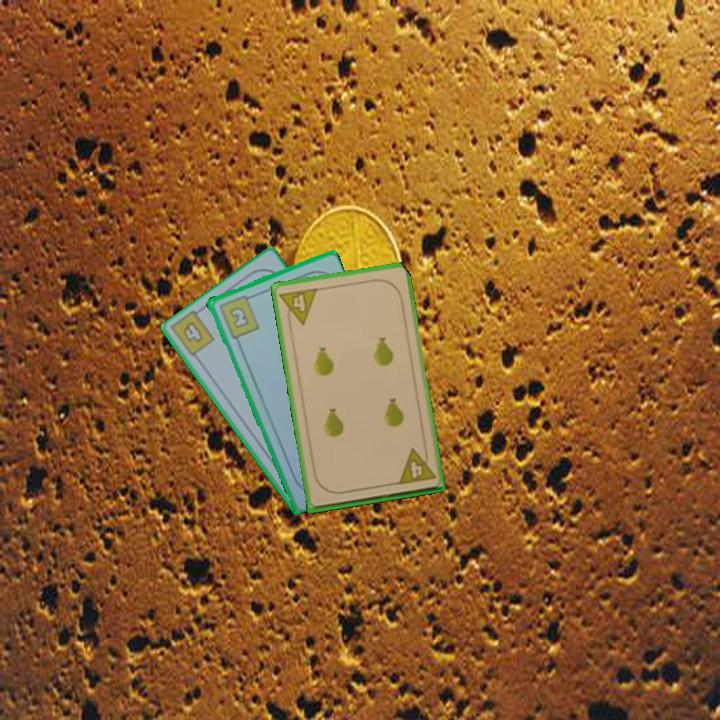2b: (215, 291, 262, 341)
4b: (179, 318, 206, 346)
4p: (276, 284, 320, 329), (394, 444, 438, 487)
